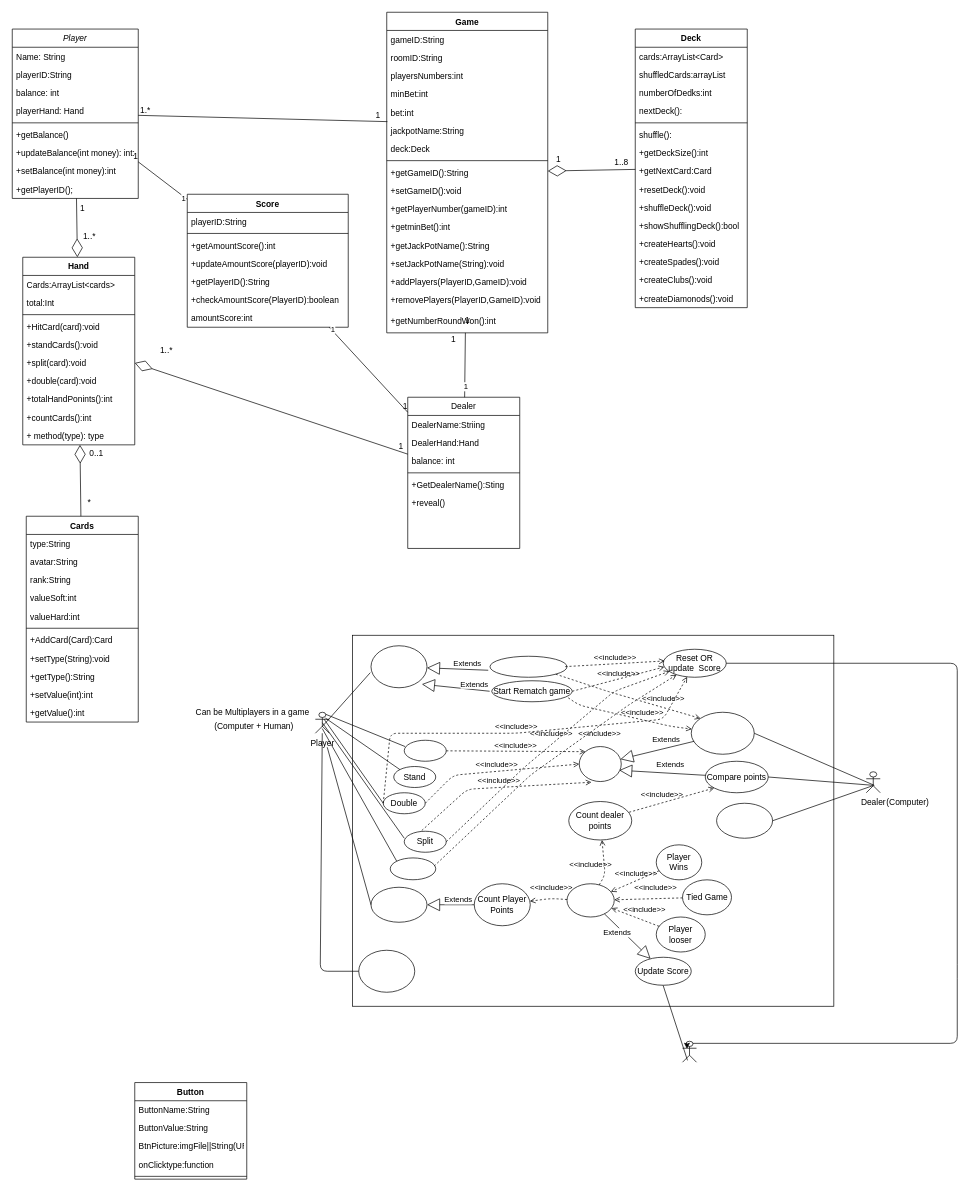
Some shapes in this 970 by 1191 pixel diagram are drawn without their labels. Here are the shapes that lost their labels. From the top down, the centre of each, then its label:
the point at 398,666: Start Game
the point at 528,666: Start new Game
the point at 425,750: Hit
the point at 722,733: Shuffles Cards
the point at 600,764: Get Card
the point at 744,820: Dealer Hand
the point at 413,868: Insurance
the point at 398,904: Player Hand
the point at 590,900: Check Status
the point at 386,971: QuitGame
the point at 689,1051: Score system
